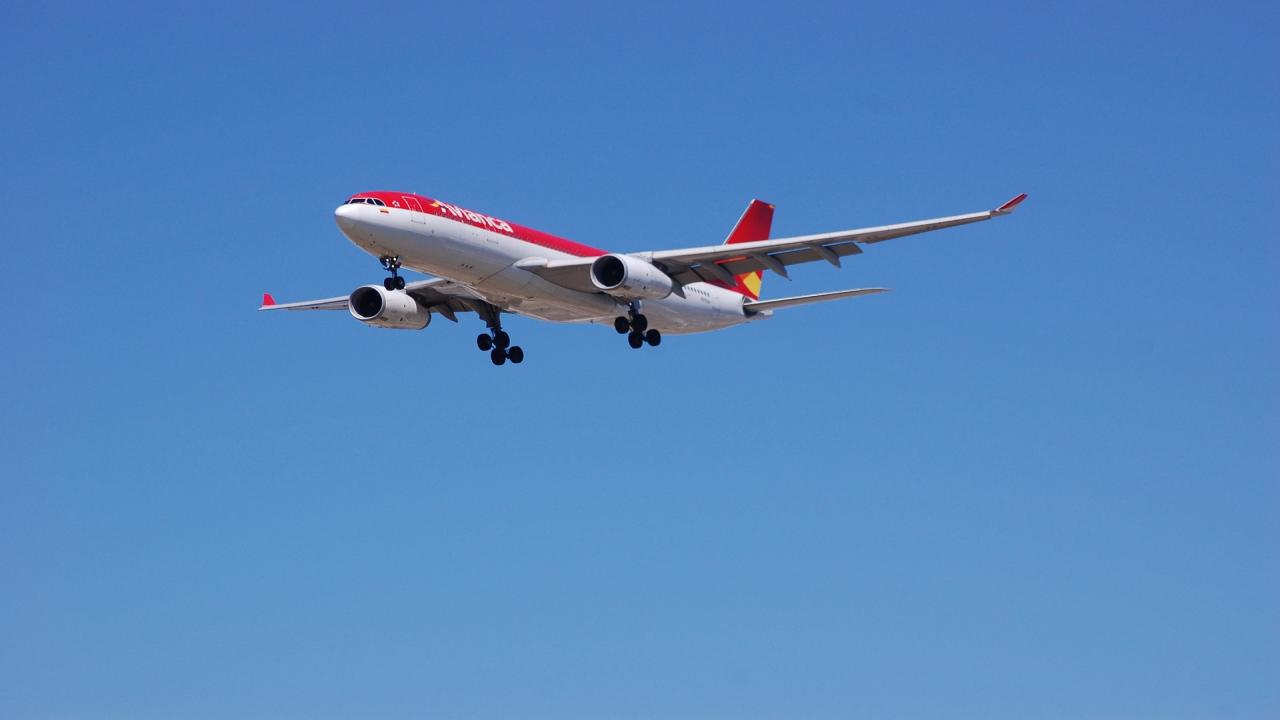Airplane: (235, 167, 1047, 384)
